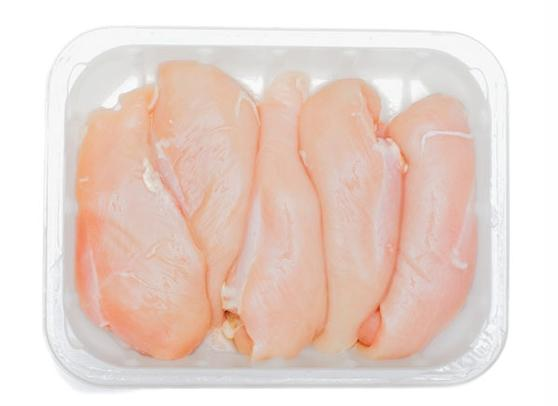chicken_fillet: (73, 88, 218, 359), (296, 77, 405, 355)
